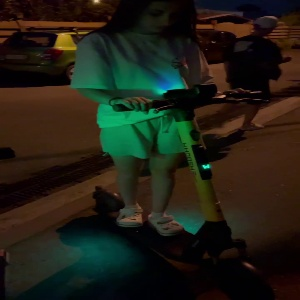human on a scooter: (67, 1, 276, 298)
